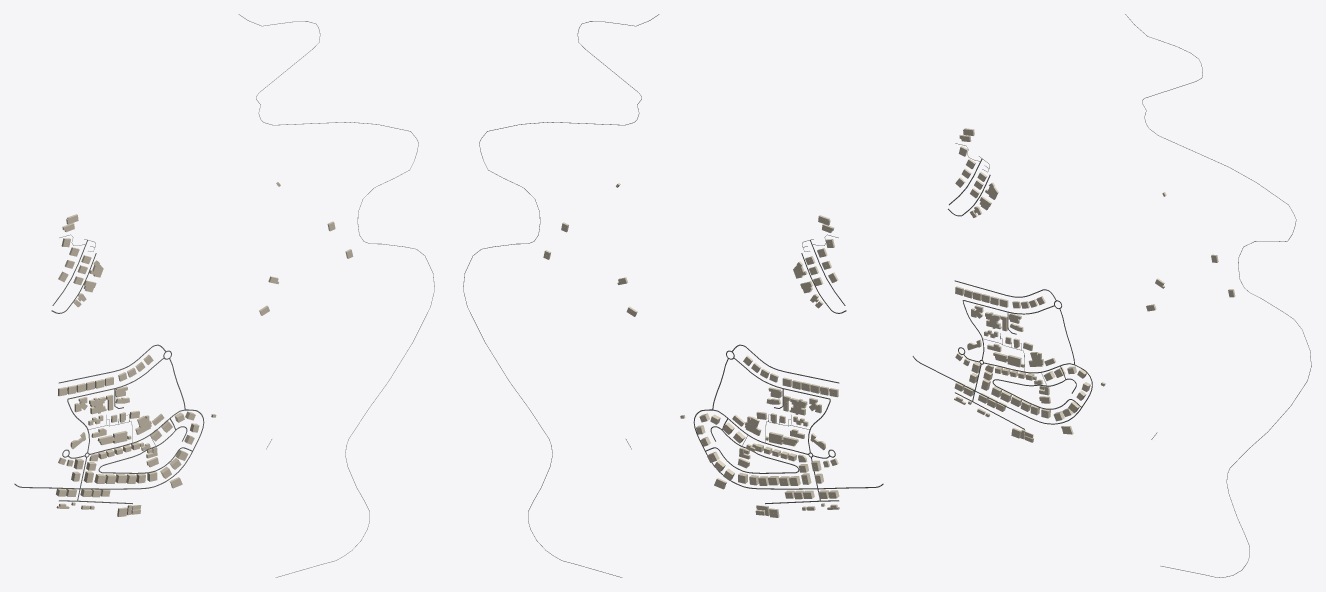
File: historic-palestine-09_25_3505_3192.glb
3 views of the same model, side by side, from view 1: azimuth 30°, elevation 25°; view 2: azimuth 150°, elevation 25°; view 3: azimuth 330°, elevation 25° (orthographic). The views are drawn at different scales.
Visible parts, largest first — view 1: Road Canceled Military Road; view 2: Road Canceled Military Road; view 3: Road Canceled Military Road.
Part boxes in pixels (bbox=[...]): Road Canceled Military Road: bbox=[238, 14, 434, 577]; Road Canceled Military Road: bbox=[463, 14, 659, 577]; Road Canceled Military Road: bbox=[1125, 14, 1311, 577].
Size of the model in its own units: 1380 by 1796 by 17.09.
